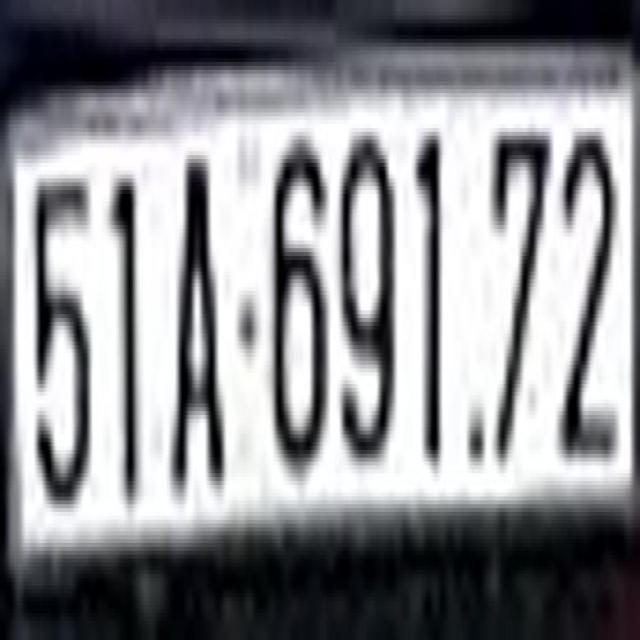1: (106, 156, 138, 532), (414, 128, 448, 481)
2: (558, 132, 624, 465)
5: (32, 152, 92, 536)
6: (268, 136, 333, 500)
7: (489, 117, 553, 470)
9: (338, 136, 400, 473)
A: (168, 132, 228, 504)
